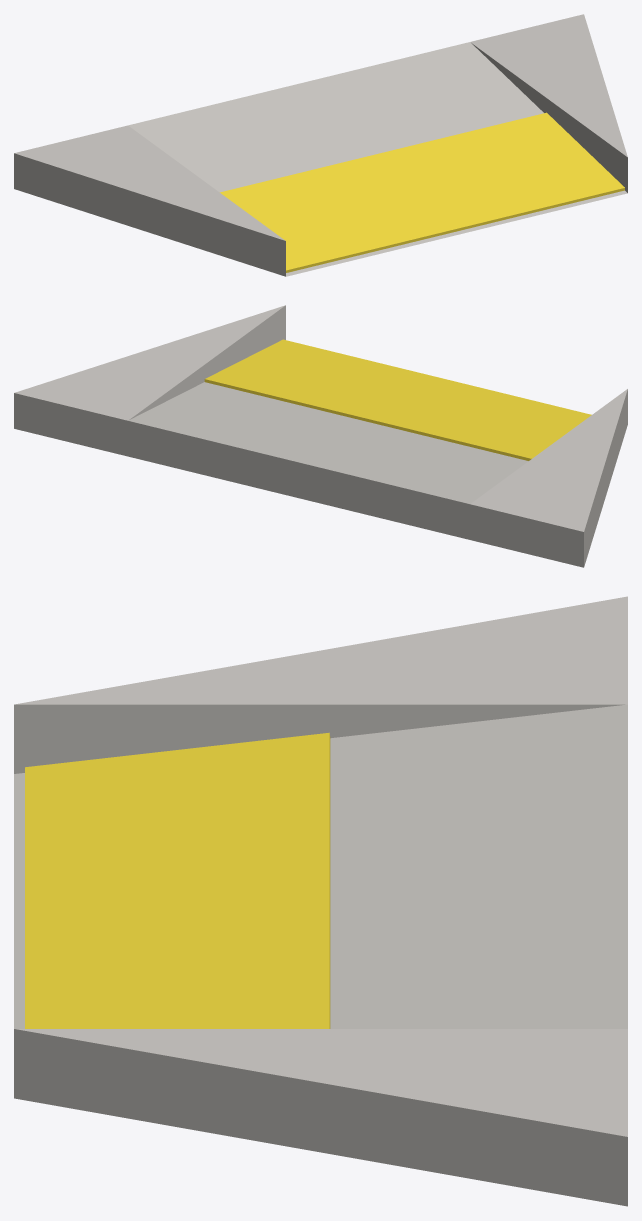
Rendered from curb_ramp.glb.
3 renders of one model, top to bottom at view 1: azimuth 30°, elevation 25°; view 2: azimuth 150°, elevation 25°; view 3: azimuth 270°, elevation 25°, orthographic. The views are drawn at different scales.
Parts seen in each view (by area): view 1: curb_ramp; view 2: curb_ramp; view 3: curb_ramp.
Boxes of the visible parts, bbox=[...] form: curb_ramp: bbox=[14, 14, 627, 276]; curb_ramp: bbox=[14, 305, 627, 567]; curb_ramp: bbox=[14, 596, 627, 1206].
Size of the model in its own units: 2.5 by 0.15 by 1.2.
